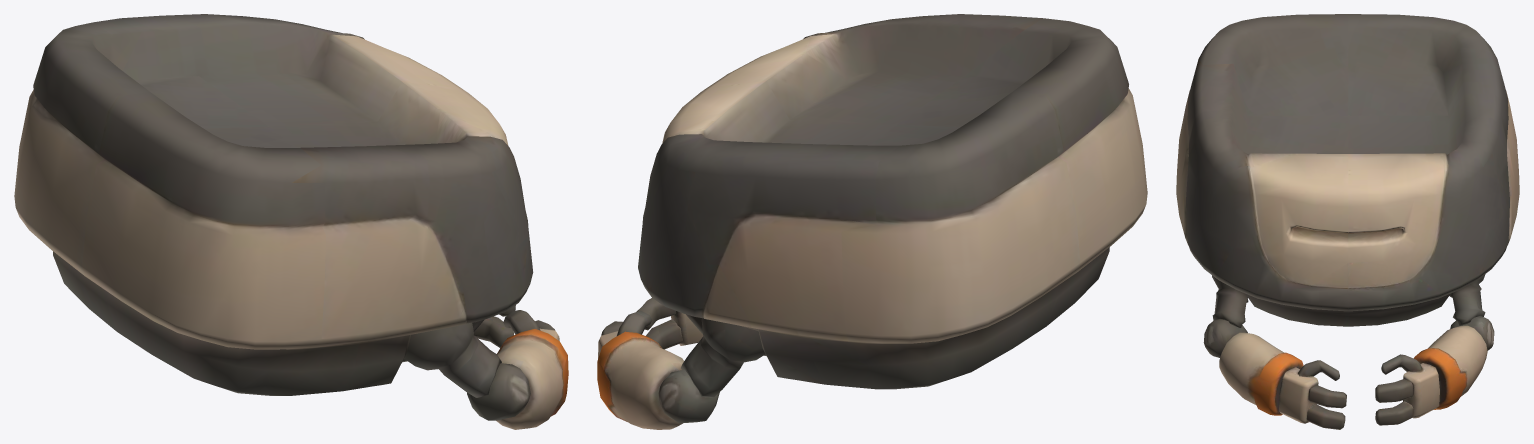
File: block.glb
3 views of the same model, side by side, from view 1: azimuth 30°, elevation 25°; view 2: azimuth 150°, elevation 25°; view 3: azimuth 270°, elevation 25° (orthographic). The views are drawn at different scales.
Parts seen in each view (by area): view 1: tripo_node_dab018bc-7354-4aa4-826b-12ef145f599b; view 2: tripo_node_dab018bc-7354-4aa4-826b-12ef145f599b; view 3: tripo_node_dab018bc-7354-4aa4-826b-12ef145f599b.
Part boxes in pixels (<box>): tripo_node_dab018bc-7354-4aa4-826b-12ef145f599b: <box>14,14,568,429</box>; tripo_node_dab018bc-7354-4aa4-826b-12ef145f599b: <box>597,14,1147,429</box>; tripo_node_dab018bc-7354-4aa4-826b-12ef145f599b: <box>1176,14,1519,429</box>.
Size of the model in its own units: 0.998 by 0.7871 by 0.9004.
1 material, 1 textured.
